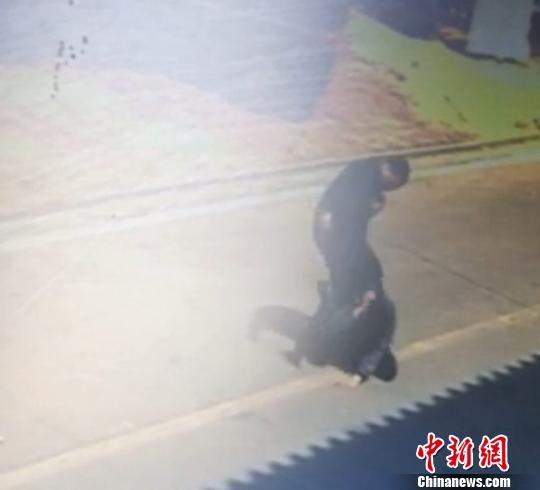fall: (260, 271, 409, 391)
